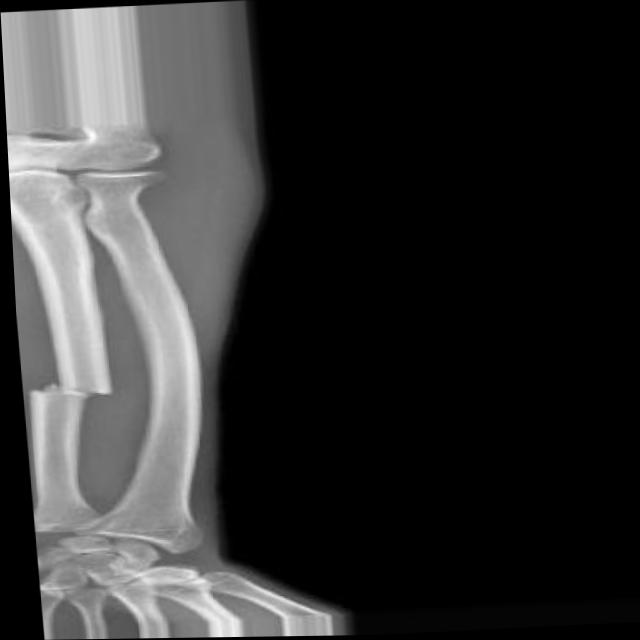fracture: (18, 377, 118, 403)
